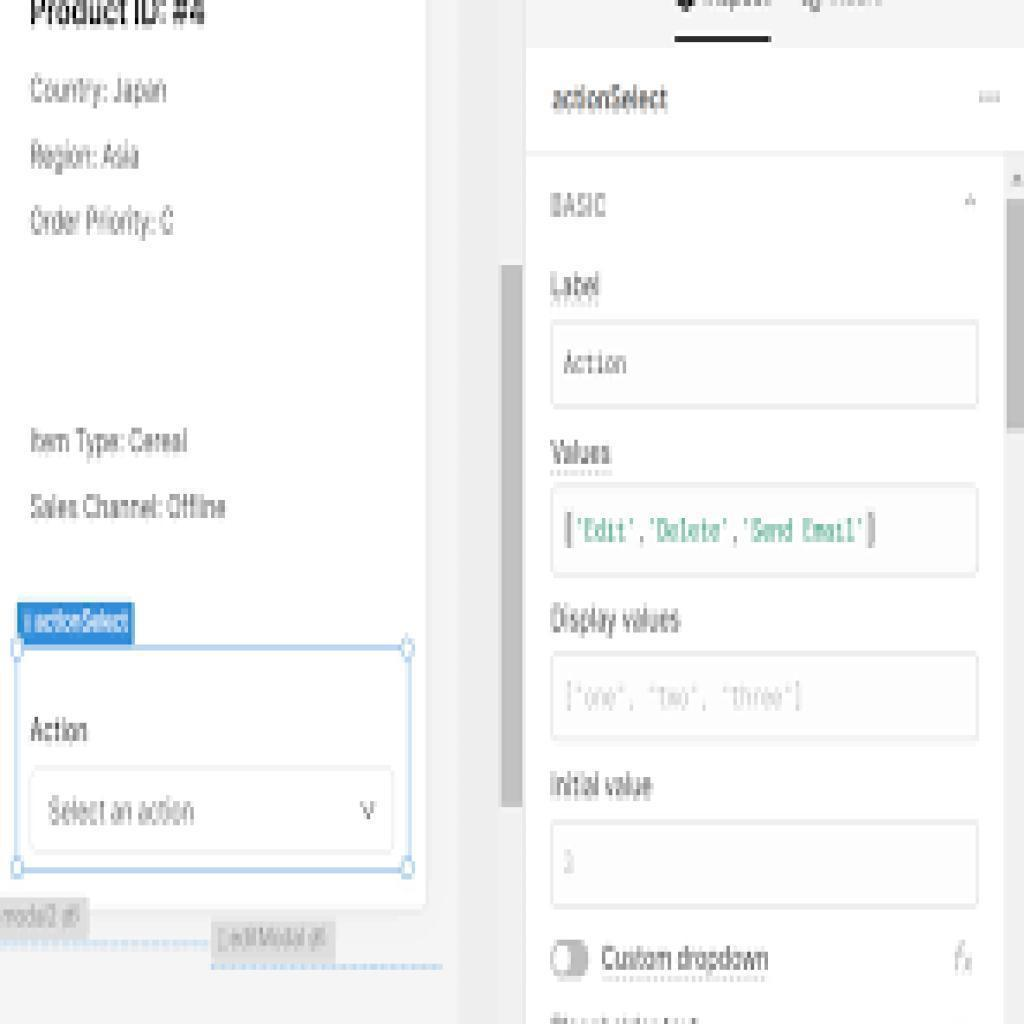dropdown: (30, 769, 390, 852)
input: (547, 320, 979, 409), (553, 653, 980, 742), (553, 486, 976, 574), (550, 819, 976, 906)
switch: (546, 934, 594, 983)
